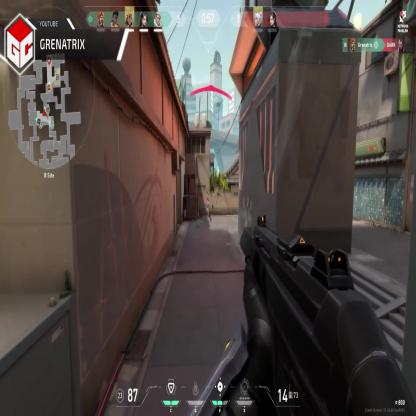enemy: (204, 198, 211, 222)
enemy_head: (206, 197, 209, 203)
